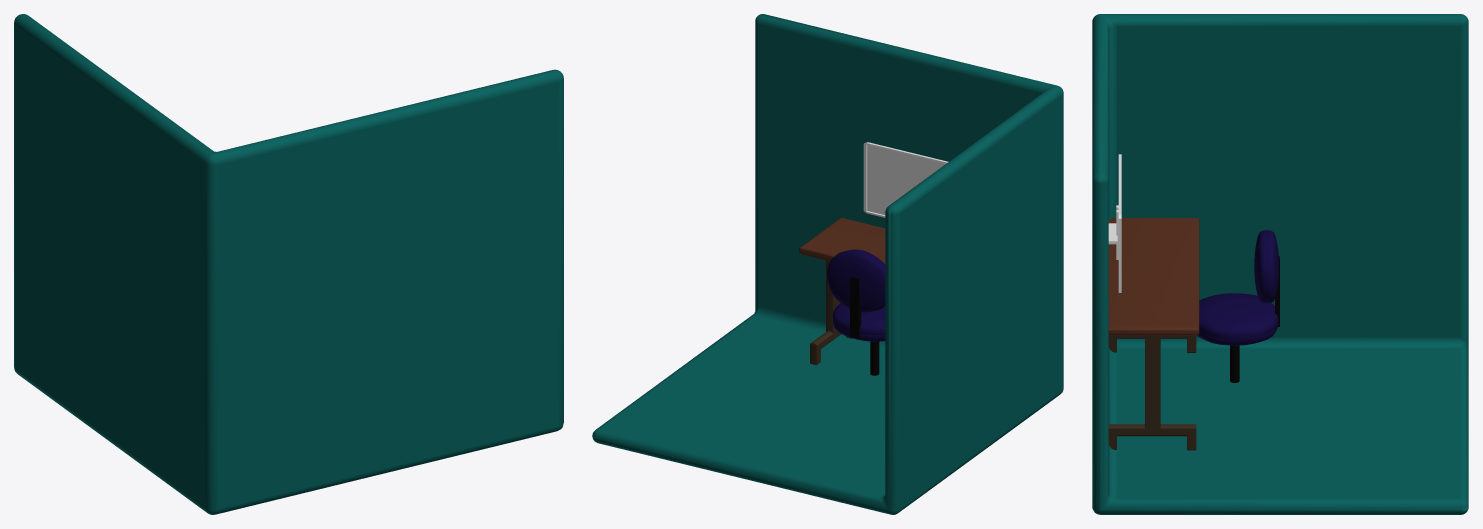
The model's file is portfolio.glb.
3 views of the same model, side by side, from view 1: azimuth 30°, elevation 25°; view 2: azimuth 150°, elevation 25°; view 3: azimuth 270°, elevation 25° (orthographic). The views are drawn at different scales.
Visible parts, largest first — view 1: Cube; view 2: Cube, Cube.002, Sphere, Plane, Sphere.001, Plane.001, Cube.001; view 3: Cube, Plane, Sphere.001, Plane.001, Sphere, Cube.002.
Part boxes in pixels (x1,y1,x2,y2): Cube: (14,14,563,514); Cube: (592,14,1063,514); Cube.002: (863,142,948,217); Sphere: (827,249,885,312); Plane: (799,218,885,263); Sphere.001: (832,303,885,341); Plane.001: (810,260,852,365); Cube.001: (850,276,861,338); Cube: (1092,14,1468,514); Plane: (1108,218,1199,335); Sphere.001: (1197,293,1278,345); Plane.001: (1108,335,1196,450); Sphere: (1254,230,1278,302); Cube.002: (1118,154,1121,292).
Bounding box in the file's own units: 4.6 × 4.43 × 4.43.
